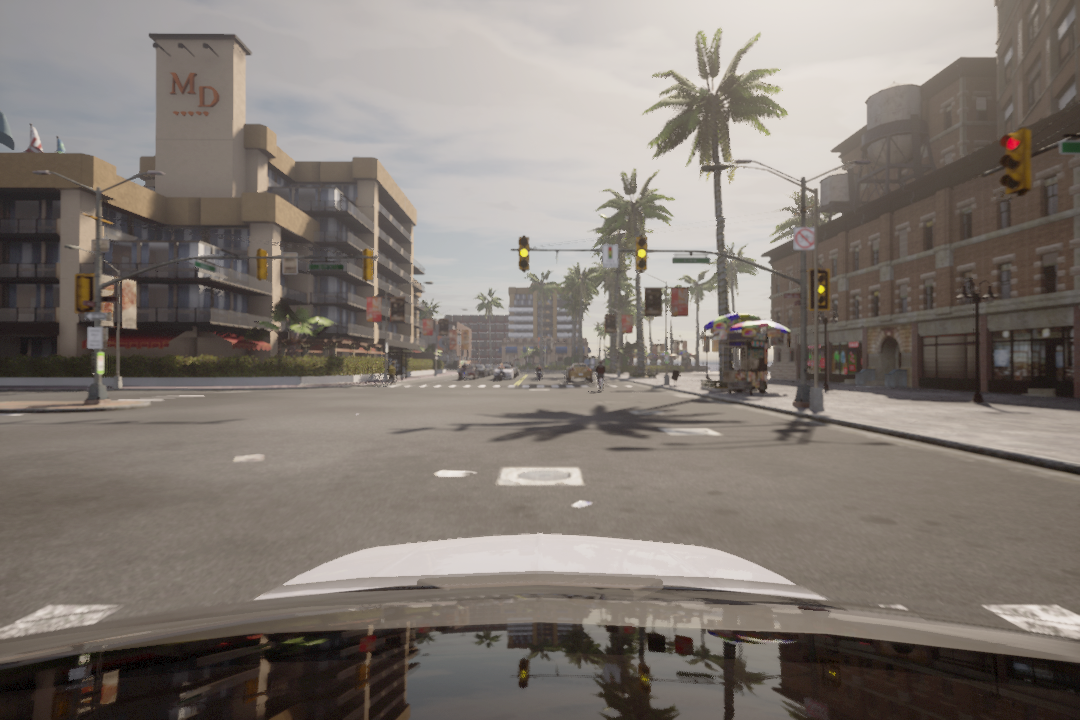TrafficLight: (1001, 127, 1034, 193), (810, 271, 828, 311), (635, 234, 651, 274), (517, 233, 531, 274)
TrafficSign: (792, 223, 817, 251)
